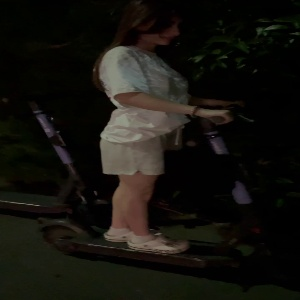human on a scooter: (35, 1, 297, 282)
